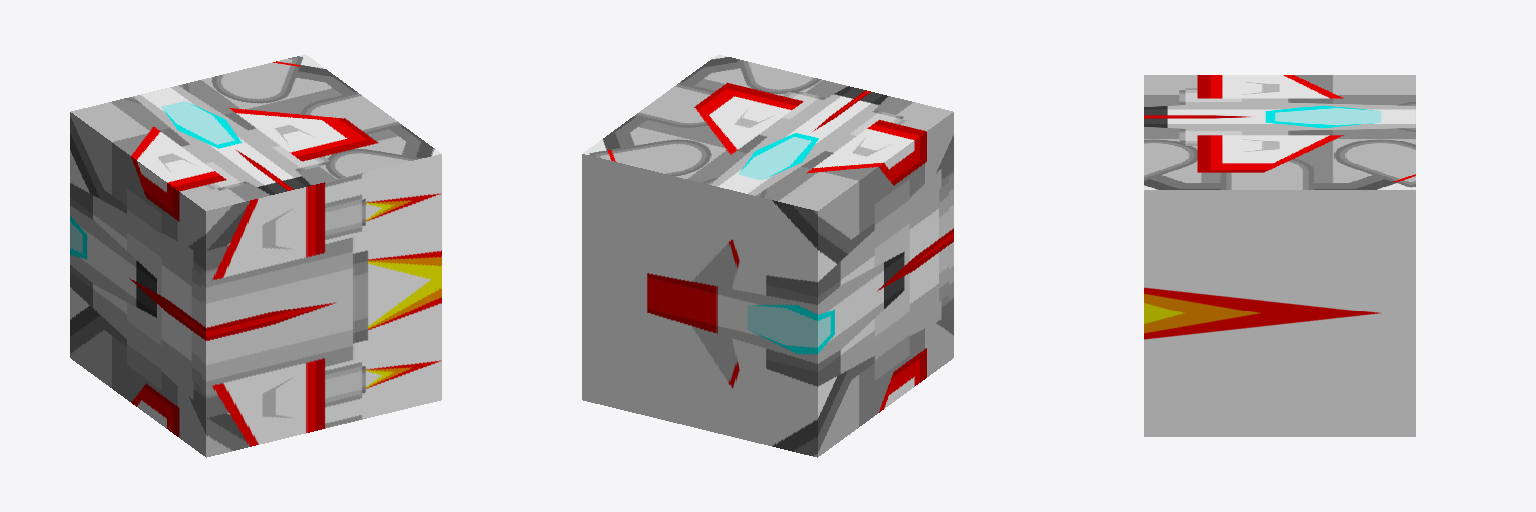
3 views of the same model, side by side, from view 1: azimuth 30°, elevation 25°; view 2: azimuth 150°, elevation 25°; view 3: azimuth 270°, elevation 25° (orthographic).
Parts seen in each view (by area): view 1: 立方体; view 2: 立方体; view 3: 立方体.
Part boxes in pixels (x1,y1,x2,y2): 立方体: (70,54,441,457); 立方体: (582,54,953,457); 立方体: (1144,75,1415,436).
Size of the model in its own units: 2 by 2 by 2.
1 materials, 1 textured.